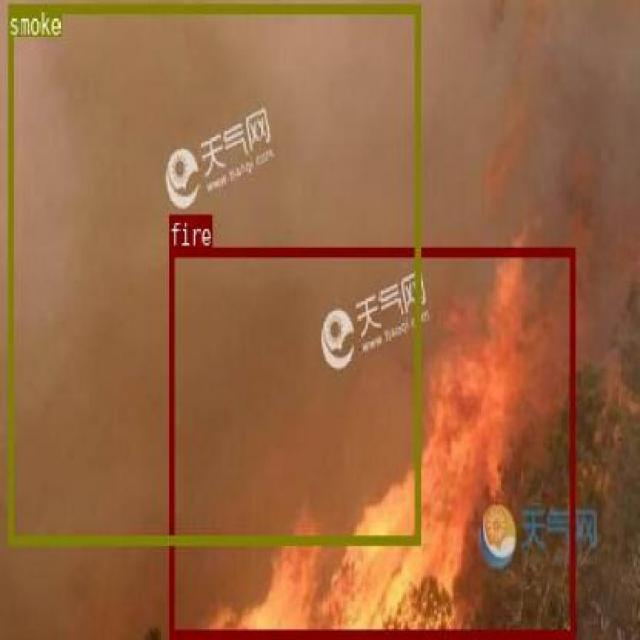Fire: (168, 247, 574, 636)
Smoke: (8, 2, 420, 542)
